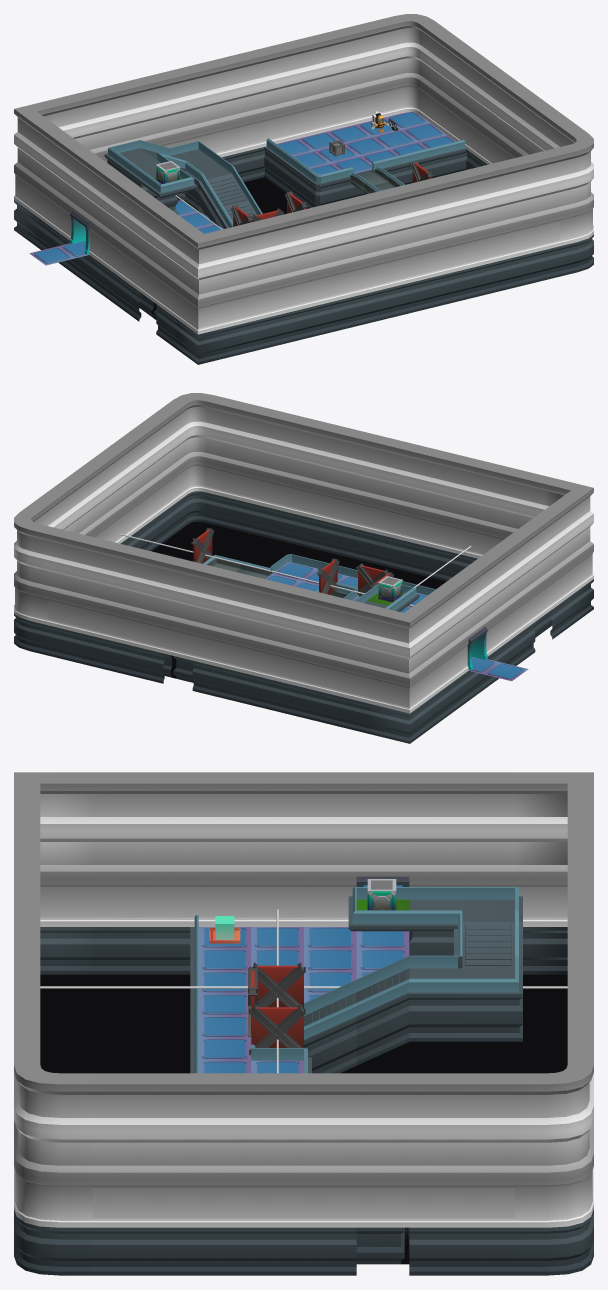
The model's file is NivelAssetsNuevos03XformCollapse.fbx.
3 views of the same model, one above another, from view 1: azimuth 30°, elevation 25°; view 2: azimuth 150°, elevation 25°; view 3: azimuth 270°, elevation 25° (orthographic). The views are drawn at different scales.
Parts seen in each view (by area): view 1: PareEsqdAltaSup01, ParedEsq01, ParedBajaEsq01, ParedAltaEsq01, ParedCurvaAltaSupEsq002, PareEsqdAltaSup002, ParedBajaIntEsq002, ParedCurvaAltaSupEsq01, Escalera002, ParedCurvaAltaEsq002, ParedCurvaEsq002, ParedAltaSup013 (+143 smaller); view 2: Vacio01, PareEsqdAltaSup002, ParedEsq002, ParedBajaEsq002, ParedAltaEsq002, ParedCurvaAltaSupEsq01, PareEsqdAltaSup01, ParedCurvaAltaSupEsq002, ParedCurvaAltaEsq01, ParedCurvaBajaEsq01, ParedCurvaEsq01, ParedAltaSup009 (+141 smaller); view 3: Vacio01, ParedCurvaAltaSupEsq01, ParedCurvaAltaSupEsq002, Escalera002, EscaleraPlataforma01, EscaleraDescanso01, Escalera01, PareEsqdAltaSup01, PareEsqdAltaSup002, ParedCurvaBajaEsq002, ParedCurvaBajaEsq01, ParedCurvaEsq002 (+90 smaller).
Part boxes in pixels (bbox=[...]): PareEsqdAltaSup01: bbox=[173, 221, 241, 273]; ParedEsq01: bbox=[173, 286, 241, 334]; ParedBajaEsq01: bbox=[173, 316, 241, 364]; ParedAltaEsq01: bbox=[173, 256, 241, 304]; ParedCurvaAltaSupEsq002: bbox=[376, 14, 444, 61]; PareEsqdAltaSup002: bbox=[14, 98, 65, 156]; ParedBajaIntEsq002: bbox=[297, 163, 350, 208]; ParedCurvaAltaSupEsq01: bbox=[552, 126, 593, 185]; Escalera002: bbox=[198, 165, 250, 223]; ParedCurvaAltaEsq002: bbox=[383, 51, 432, 91]; ParedCurvaEsq002: bbox=[384, 82, 431, 122]; ParedAltaSup013: bbox=[115, 77, 152, 120]; Vacio01: bbox=[152, 521, 446, 678]; PareEsqdAltaSup002: bbox=[366, 600, 434, 652]; ParedEsq002: bbox=[366, 665, 434, 713]; ParedBajaEsq002: bbox=[366, 695, 434, 743]; ParedAltaEsq002: bbox=[366, 635, 434, 683]; ParedCurvaAltaSupEsq01: bbox=[163, 393, 231, 440]; PareEsqdAltaSup01: bbox=[542, 477, 593, 535]; ParedCurvaAltaSupEsq002: bbox=[14, 505, 55, 564]; ParedCurvaAltaEsq01: bbox=[175, 430, 224, 470]; ParedCurvaBajaEsq01: bbox=[175, 491, 224, 531]; ParedCurvaEsq01: bbox=[176, 461, 223, 501]; ParedAltaSup009: bbox=[455, 456, 492, 499]; Vacio01: bbox=[40, 974, 567, 1264]; ParedCurvaAltaSupEsq01: bbox=[14, 1051, 92, 1132]; ParedCurvaAltaSupEsq002: bbox=[515, 1051, 593, 1132]; Escalera002: bbox=[356, 956, 409, 1065]; EscaleraPlataforma01: bbox=[409, 955, 462, 1041]; EscaleraDescanso01: bbox=[462, 956, 522, 1041]; Escalera01: bbox=[304, 979, 356, 1073]; PareEsqdAltaSup01: bbox=[14, 772, 92, 831]; PareEsqdAltaSup002: bbox=[515, 772, 593, 831]; ParedCurvaBajaEsq002: bbox=[515, 1209, 593, 1275]; ParedCurvaBajaEsq01: bbox=[14, 1209, 92, 1275]; ParedCurvaEsq002: bbox=[515, 1161, 593, 1227].
Bounding box in the file's own units: 610 × 157 × 433.
7 materials, 2 textured.
